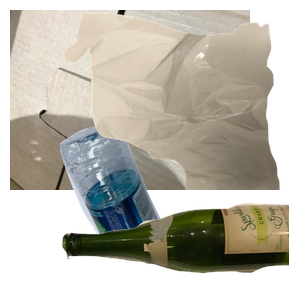cardboard: (10, 10, 250, 190)
glass: (60, 201, 300, 300)
plastic: (57, 120, 284, 300)
trash: (61, 10, 300, 190)
